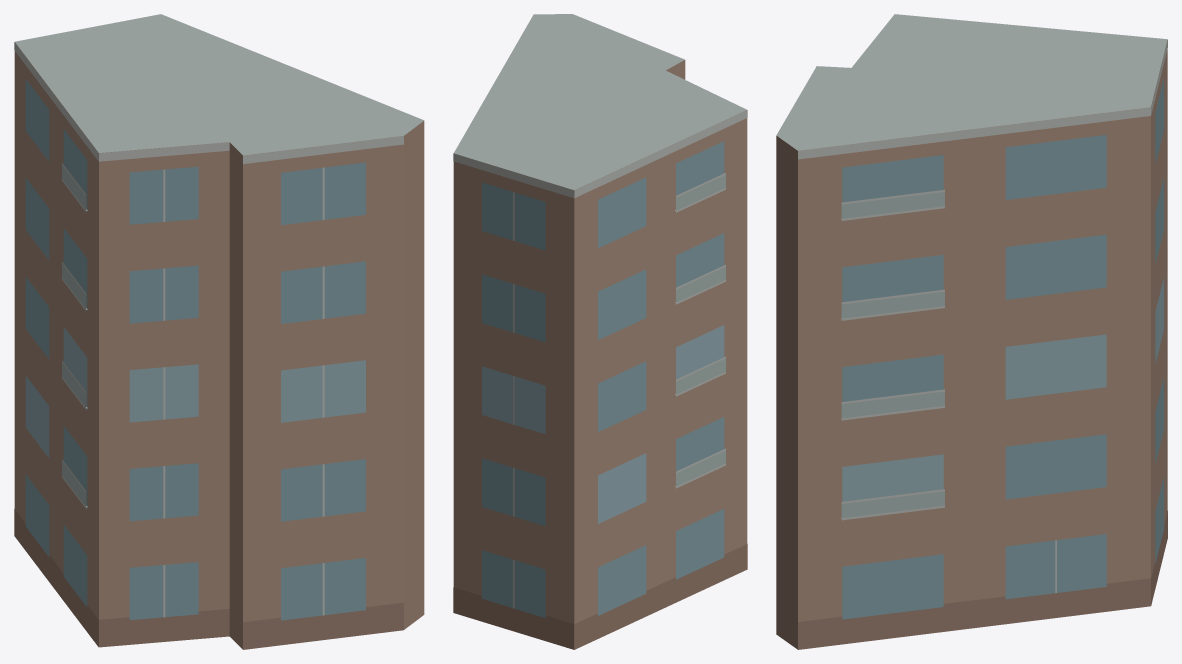
The model's file is survey-upis-32724534.glb.
3 views of the same model, side by side, from view 1: azimuth 30°, elevation 25°; view 2: azimuth 150°, elevation 25°; view 3: azimuth 270°, elevation 25° (orthographic). The views are drawn at different scales.
Visible parts, largest first — view 1: survey-upis-32724534.tmp; view 2: survey-upis-32724534.tmp; view 3: survey-upis-32724534.tmp.
Part boxes in pixels (x1=…): survey-upis-32724534.tmp: x1=14, y1=14, x2=424, y2=649; survey-upis-32724534.tmp: x1=453, y1=14, x2=747, y2=649; survey-upis-32724534.tmp: x1=776, y1=14, x2=1167, y2=649.
Bounding box in the file's own units: 8.24 × 14 × 9.96.
